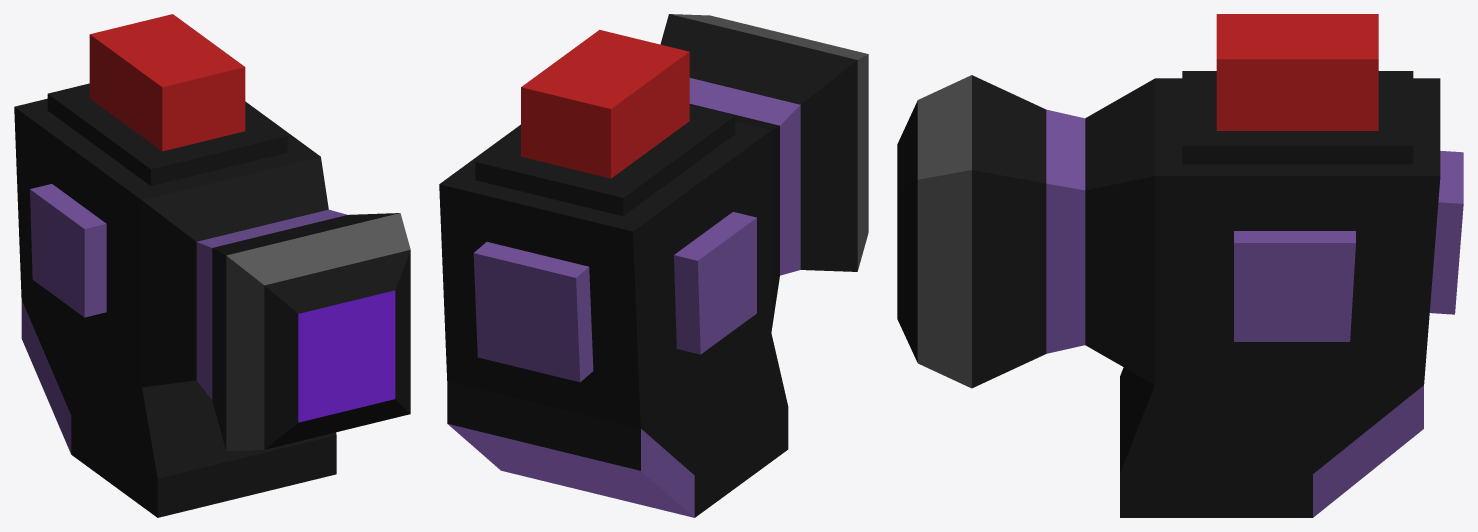
The model's file is Exploder.fbx.
The picture shows the model from 3 angles, left to right: view 1: azimuth 30°, elevation 25°; view 2: azimuth 150°, elevation 25°; view 3: azimuth 270°, elevation 25°; orthographic projection. The views are drawn at different scales.
Parts seen in each view (by area): view 1: Exploder; view 2: Exploder; view 3: Exploder.
Part boxes in pixels (box(x1,y1,x2,y2)): Exploder: box(14, 14, 410, 517); Exploder: box(439, 14, 868, 517); Exploder: box(897, 14, 1463, 517).
Size of the model in its own units: 65.7 by 109 by 129.
Materials: 1 (1 with a texture image).
